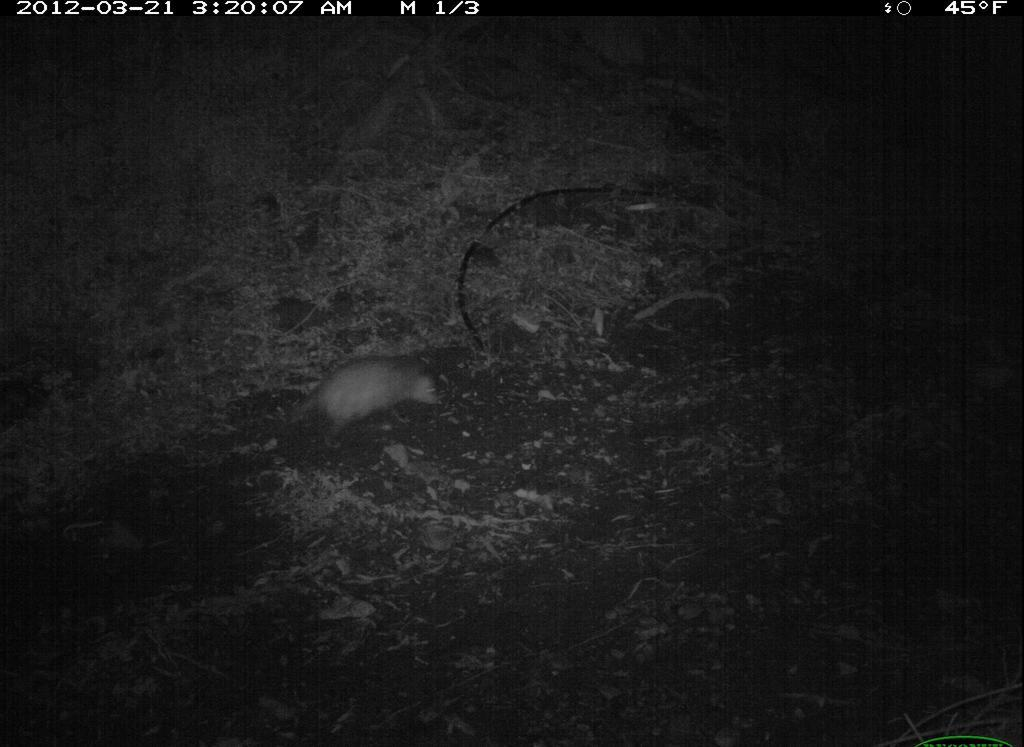opossum: (262, 358, 454, 456)
